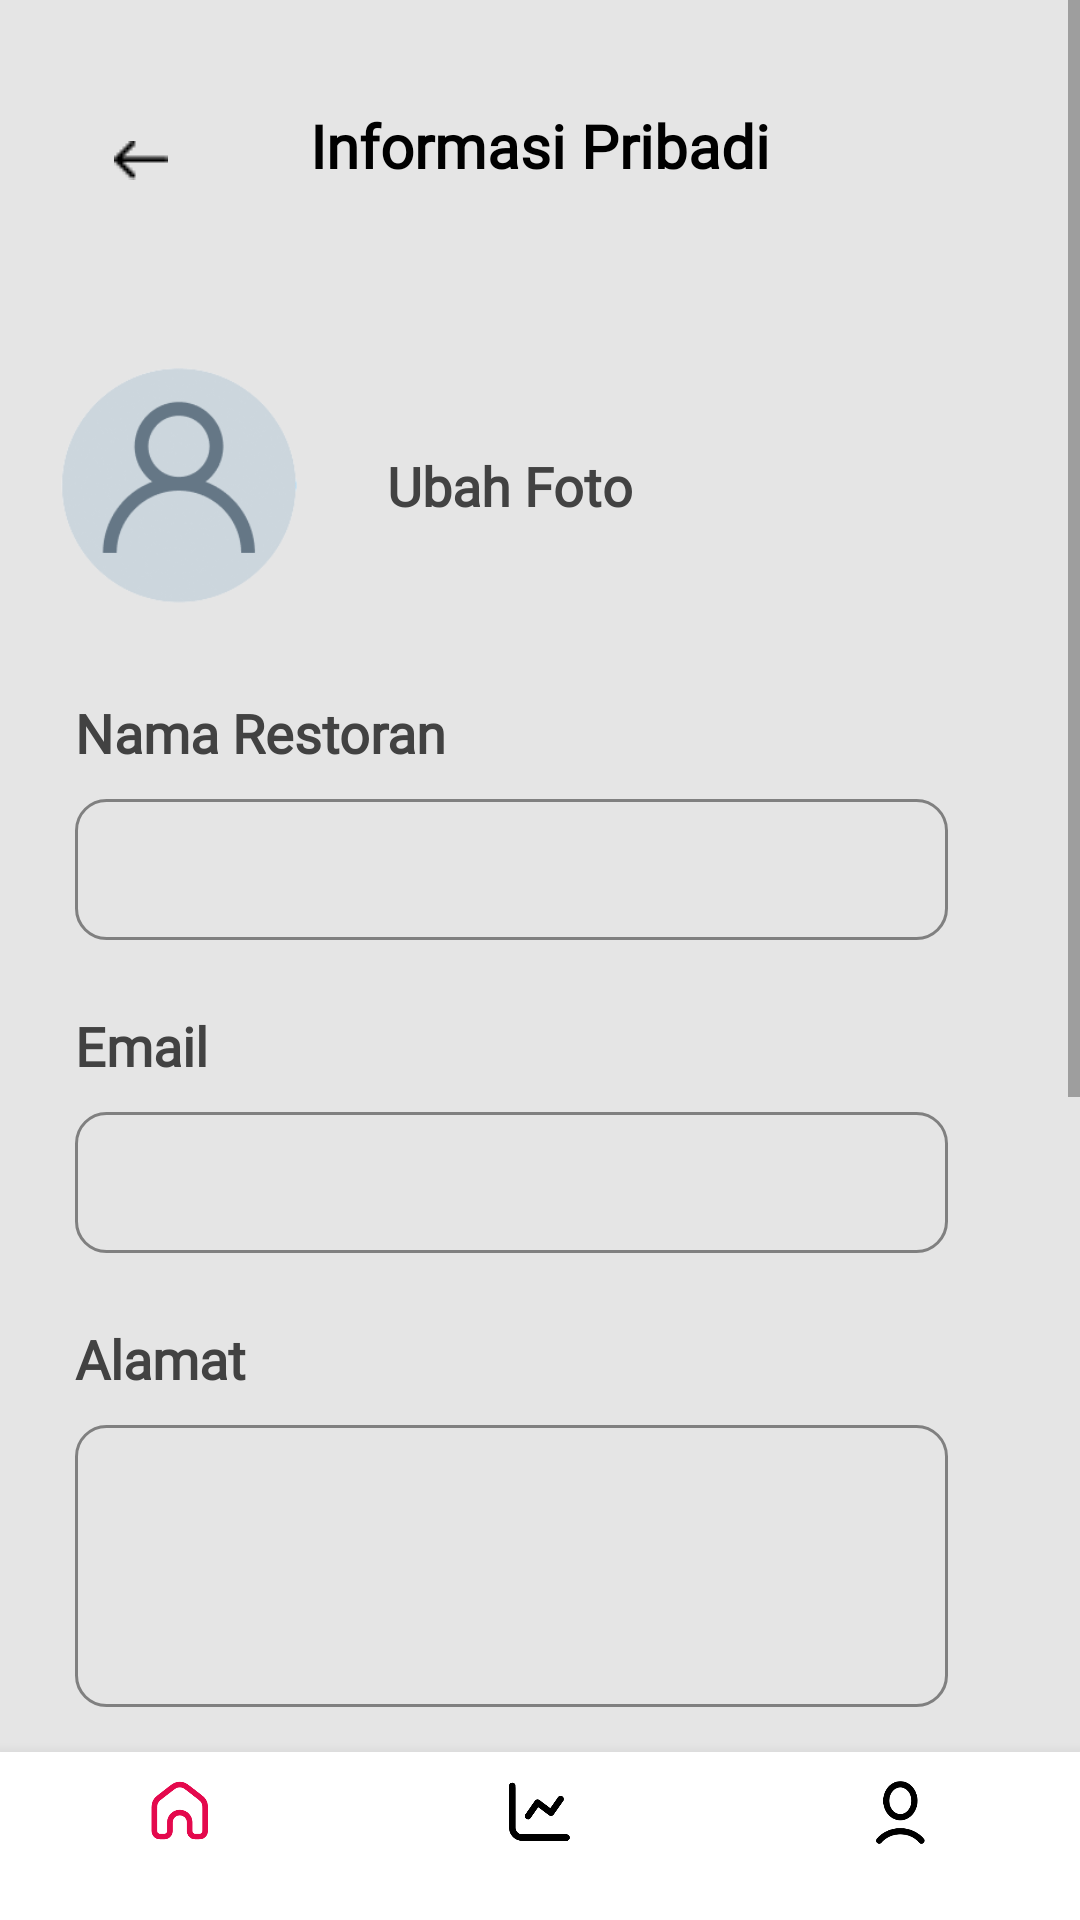

Point at icon controls on the screen. Image size 1080 x 1920, points as (x,y).
back: (141,160)
